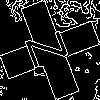Z: (25, 25, 78, 70)
